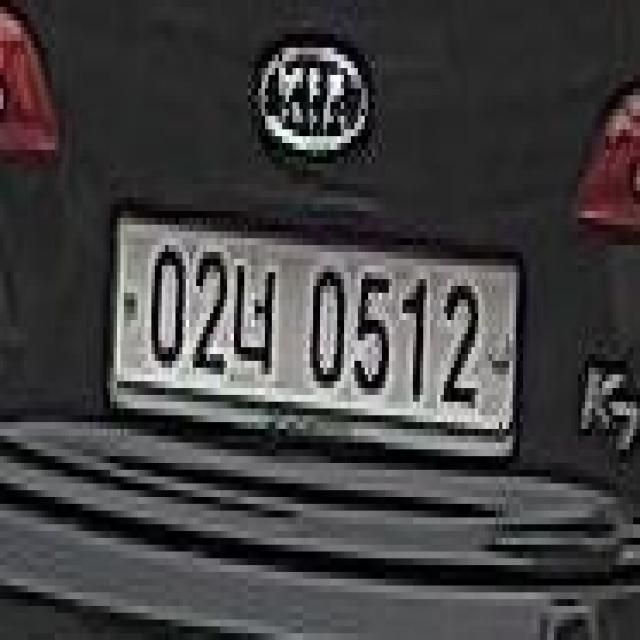illegal_plate: (104, 202, 530, 482)
